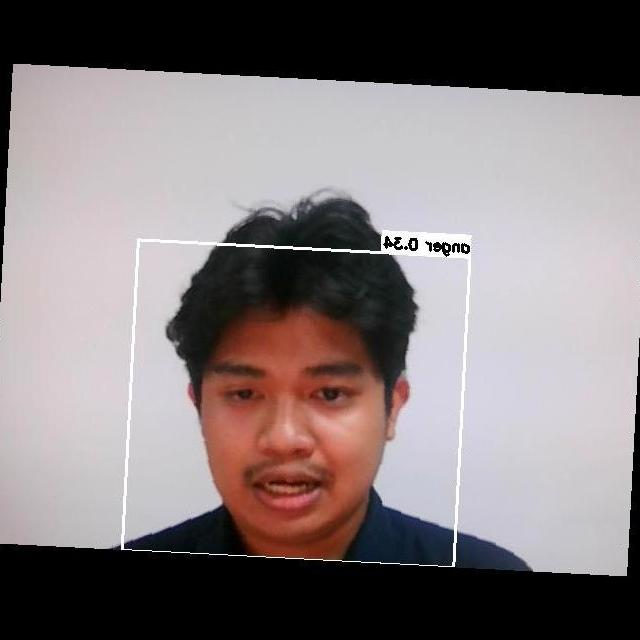Fear: (192, 334, 392, 541)
